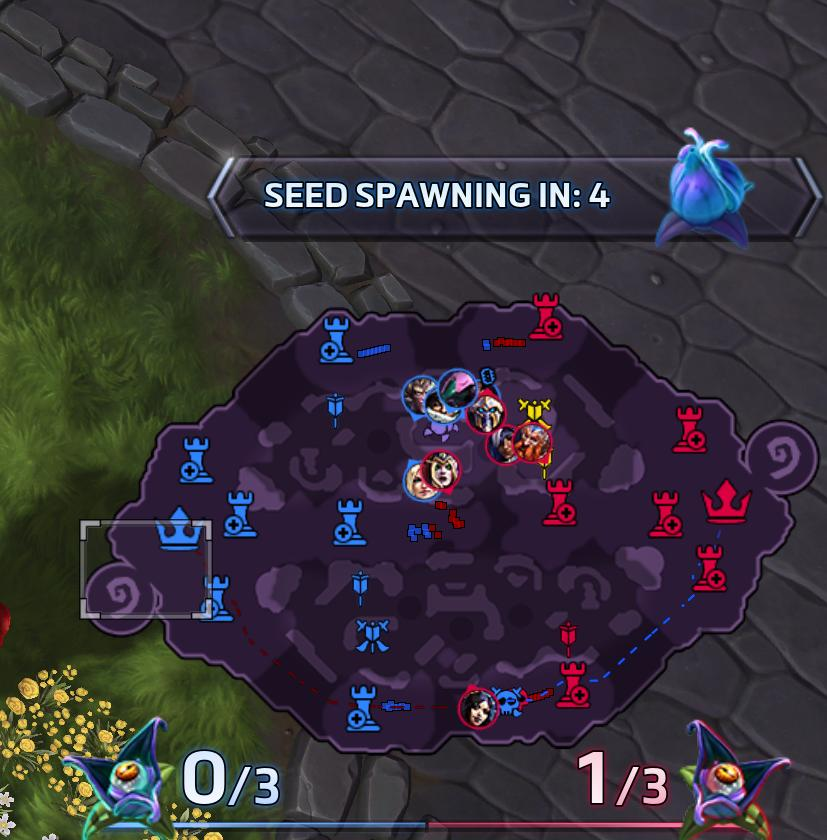blue nexus: (150, 500, 209, 556)
blue player: (435, 368, 479, 420), (402, 454, 443, 509), (401, 374, 440, 421), (423, 386, 459, 423)
blue tower: (330, 493, 370, 548), (176, 434, 217, 487), (315, 313, 354, 368), (344, 681, 381, 737), (222, 491, 261, 541), (196, 573, 233, 625)
red nexus: (698, 475, 756, 528)
red player: (510, 420, 553, 466), (420, 449, 462, 496), (457, 685, 497, 730), (468, 391, 507, 435), (485, 426, 519, 466)
red tower: (526, 288, 566, 343), (540, 474, 579, 529), (670, 404, 710, 456), (646, 488, 685, 541), (554, 658, 592, 711), (691, 542, 728, 595)
